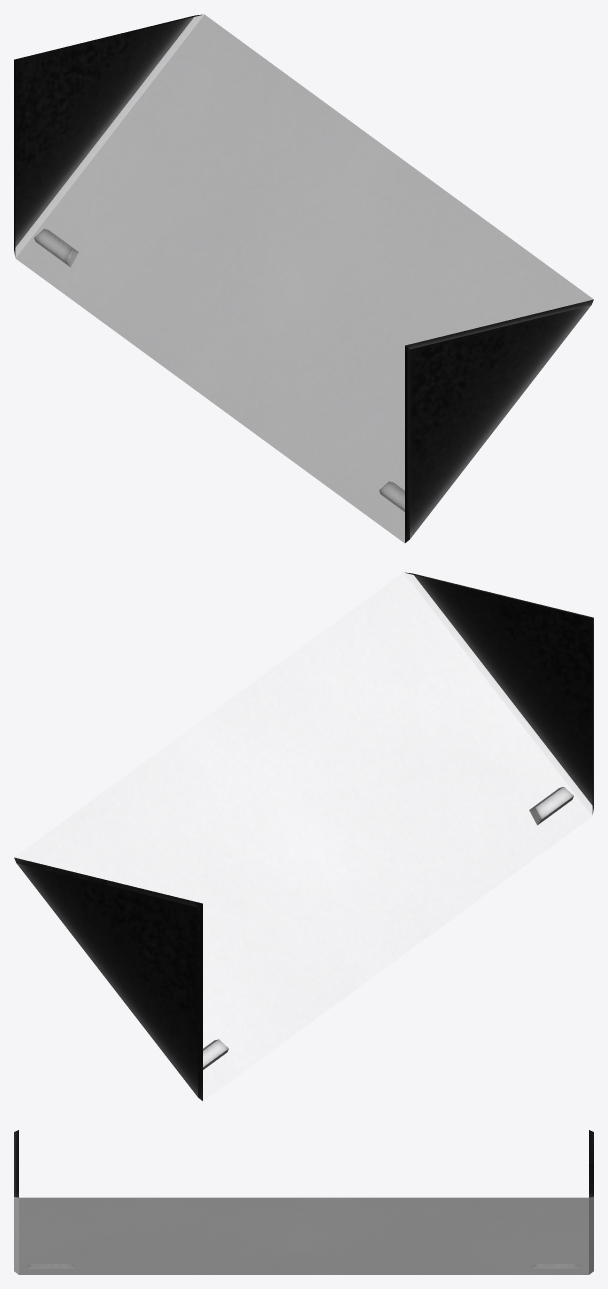
File: wall_panel_corner_ceiling.FBX
3 renders of one model, top to bottom at view 1: azimuth 30°, elevation 25°; view 2: azimuth 150°, elevation 25°; view 3: azimuth 270°, elevation 25°, orthographic. The views are drawn at different scales.
Parts seen in each view (by area): view 1: Box025; view 2: Box025; view 3: Box025.
Boxes of the visible parts, x1=… form: Box025: x1=14, y1=14, x2=593, y2=543; Box025: x1=14, y1=572, x2=593, y2=1101; Box025: x1=14, y1=1130, x2=593, y2=1274.
Bounding box in the file's own units: 0.6343 × 0.6343 × 2.3.
1 material, 1 textured.
